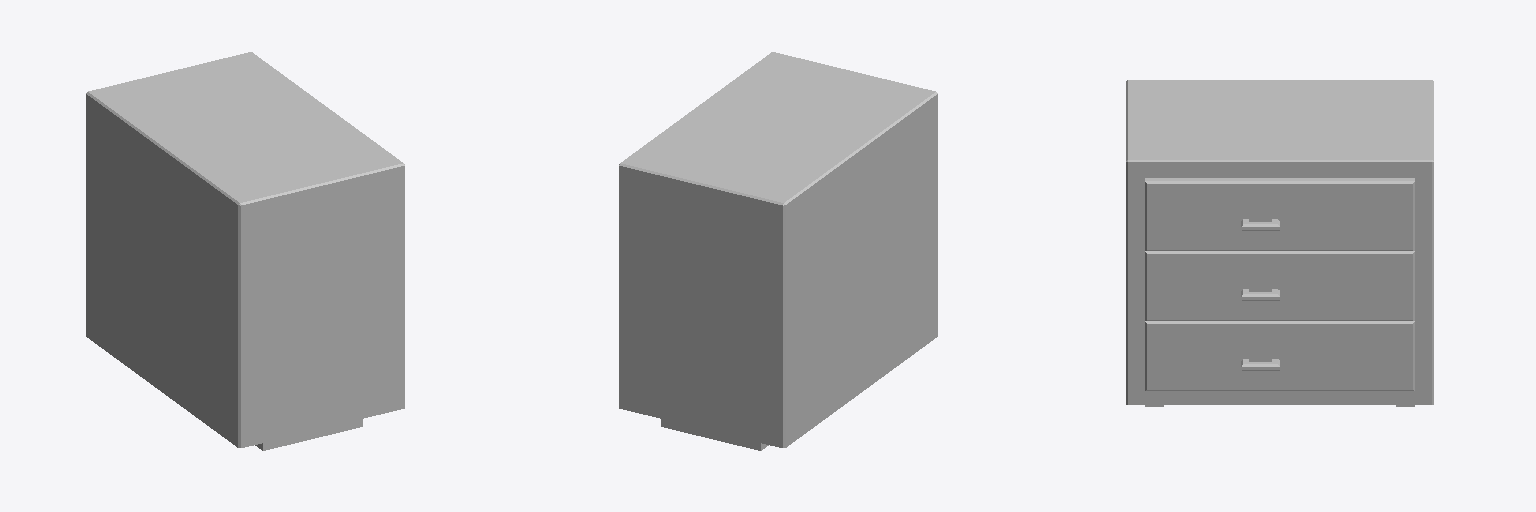
The model's file is cupboard-slide.obj.
3 renders of one model, left to right at view 1: azimuth 30°, elevation 25°; view 2: azimuth 150°, elevation 25°; view 3: azimuth 270°, elevation 25°, orthographic.
Visible parts, largest first — view 1: cupboard_Cube; view 2: cupboard_Cube; view 3: cupboard_Cube.
Boxes of the visible parts, x1=… form: cupboard_Cube: x1=86, y1=52, x2=404, y2=450; cupboard_Cube: x1=619, y1=52, x2=937, y2=450; cupboard_Cube: x1=1126, y1=80, x2=1433, y2=406.
Size of the model in its own units: 0.5612 by 0.75 by 0.8.